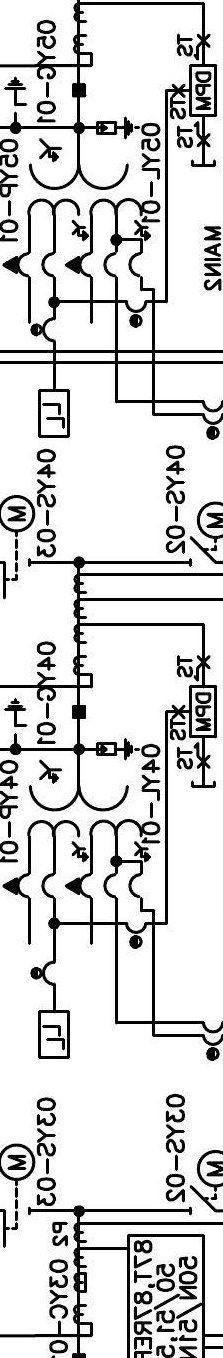115_gs: (3, 75, 28, 116), (3, 696, 28, 737)
115_la: (96, 115, 141, 140), (96, 737, 141, 761)
115_vt_3p: (1, 758, 152, 900), (1, 137, 152, 278)
DPM: (189, 684, 218, 738), (189, 63, 218, 116)
LL: (37, 388, 71, 438), (37, 1009, 71, 1059)
